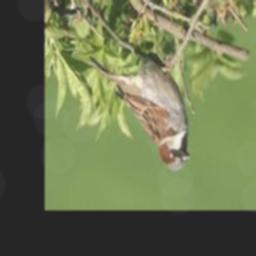Sparrow: (87, 55, 190, 171)
